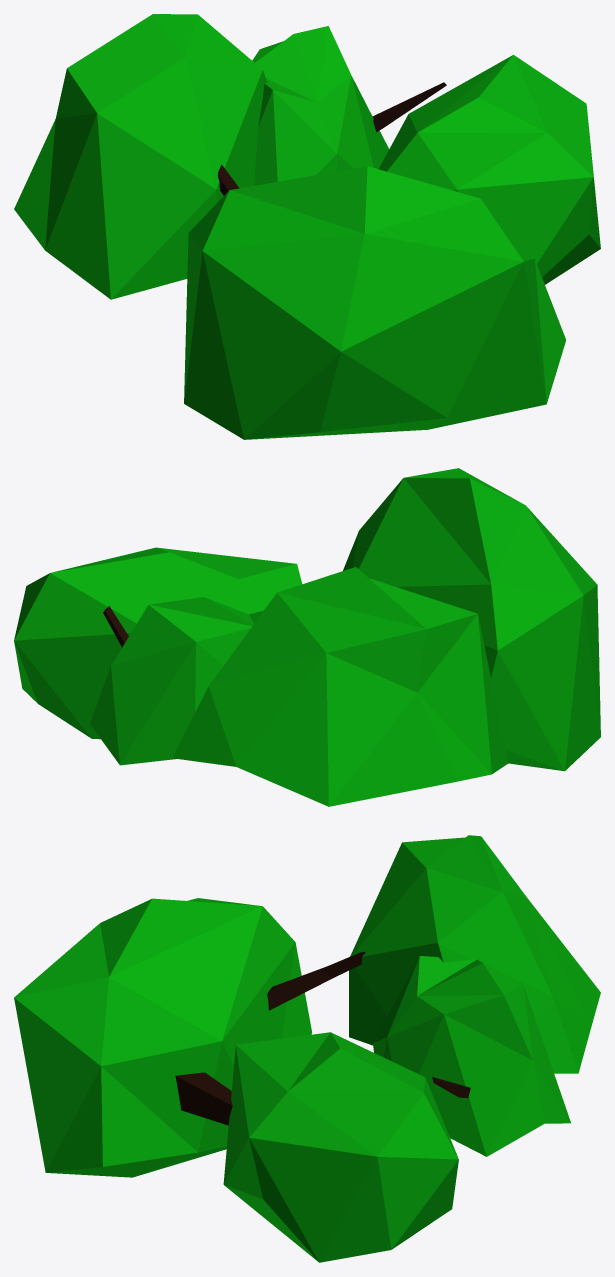
The model's file is buisson_1.FBX.
3 views of the same model, one above another, from view 1: azimuth 30°, elevation 25°; view 2: azimuth 150°, elevation 25°; view 3: azimuth 270°, elevation 25° (orthographic). The views are drawn at different scales.
Visible parts, largest first — view 1: GeoSphere011; view 2: GeoSphere011; view 3: GeoSphere011.
Part boxes in pixels (box(x1,y1,x2,y2)): GeoSphere011: box(14, 14, 600, 439); GeoSphere011: box(14, 468, 600, 806); GeoSphere011: box(14, 835, 600, 1262).
Bounding box in the file's own units: 3.27 × 1.9 × 3.42.
